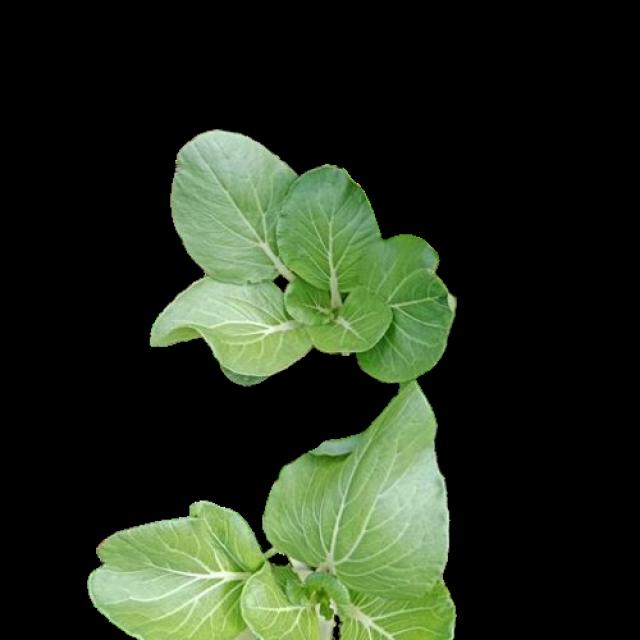healthy: (86, 383, 454, 637), (147, 128, 452, 381)
mature: (88, 385, 457, 640)
not-mature: (150, 131, 454, 384)
